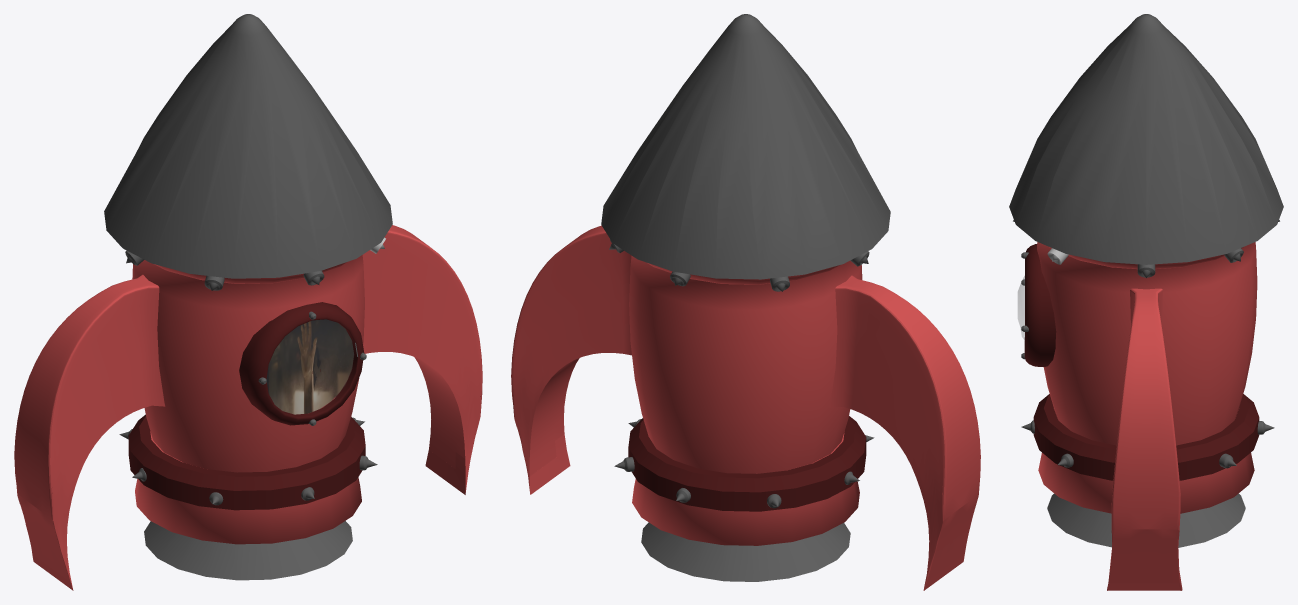
File: Rocket.fbx
3 views of the same model, side by side, from view 1: azimuth 30°, elevation 25°; view 2: azimuth 150°, elevation 25°; view 3: azimuth 270°, elevation 25° (orthographic). The views are drawn at different scales.
Parts seen in each view (by area): view 1: pSphere2, pCylinder12, pDisc1, polySurface5, polySurface7, pCylinder1; view 2: pSphere2, pCylinder12, pCylinder1; view 3: pSphere2, pCylinder12, polySurface7, pCylinder1.
Part boxes in pixels (x1,y1,x2,y2): pSphere2: (14, 14, 482, 590); pCylinder12: (128, 414, 365, 510); pDisc1: (266, 319, 353, 414); polySurface5: (267, 320, 353, 413); polySurface7: (239, 302, 364, 425); pCylinder1: (154, 262, 346, 283); pSphere2: (511, 14, 980, 590); pCylinder12: (628, 416, 866, 511); pCylinder1: (647, 263, 839, 284); pSphere2: (1009, 14, 1283, 590); pCylinder12: (1033, 394, 1259, 480); polySurface7: (1024, 244, 1056, 366); pCylinder1: (1049, 247, 1243, 269).
Bounding box in the file's own units: 1.12 × 1.28 × 0.6477.
Materials: 8 (1 with a texture image).
